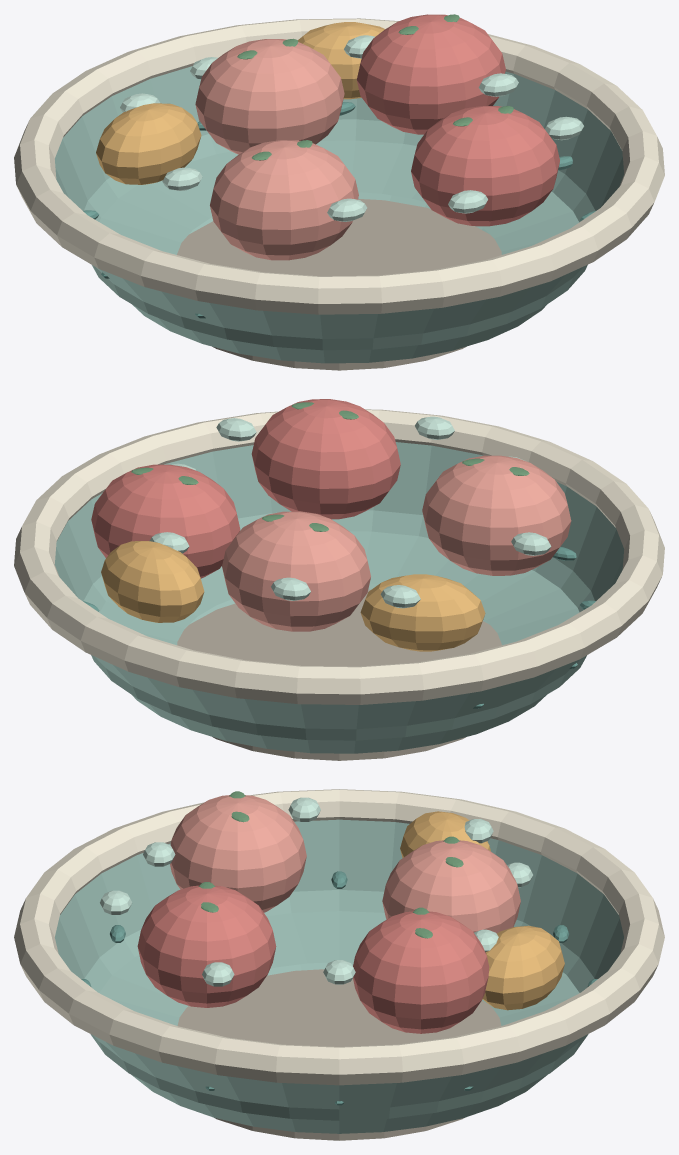
File: washed_fruit.glb
3 renders of one model, top to bottom at view 1: azimuth 30°, elevation 25°; view 2: azimuth 150°, elevation 25°; view 3: azimuth 270°, elevation 25°, orthographic.
Parts seen in each view (by area): view 1: fruit_celadon_colander_hollow_profile, fruit_celadon_colander_rolled_lip, fruit_celadon_colander_foot_ring, rinsed_berry_0, rinsed_berry_1, rinsed_berry_2, rinsed_berry_3, small_citrus_wedge_1, small_citrus_wedge_0, fruit_water_bead_0, fruit_water_bead_7, fruit_water_bead_2 (+2 smaller); view 2: fruit_celadon_colander_hollow_profile, fruit_celadon_colander_rolled_lip, rinsed_berry_1, rinsed_berry_2, rinsed_berry_0, fruit_celadon_colander_foot_ring, rinsed_berry_3, small_citrus_wedge_1, small_citrus_wedge_0, fruit_water_bead_4, fruit_water_bead_2, fruit_water_bead_5 (+2 smaller); view 3: fruit_celadon_colander_hollow_profile, fruit_celadon_colander_rolled_lip, fruit_celadon_colander_foot_ring, rinsed_berry_3, rinsed_berry_1, rinsed_berry_0, rinsed_berry_2, small_citrus_wedge_0, small_citrus_wedge_1, fruit_water_bead_4, fruit_water_bead_5, fruit_water_bead_7 (+3 smaller).
Part boxes in pixels (box(x1,y1,x2,y2)): fruit_celadon_colander_hollow_profile: box(55, 66, 624, 363); fruit_celadon_colander_rolled_lip: box(14, 18, 664, 314); fruit_celadon_colander_foot_ring: box(177, 199, 501, 370); rinsed_berry_0: box(210, 140, 358, 260); rinsed_berry_1: box(411, 106, 559, 226); rinsed_berry_2: box(195, 39, 344, 154); rinsed_berry_3: box(357, 14, 505, 134); small_citrus_wedge_1: box(96, 103, 201, 184); small_citrus_wedge_0: box(298, 22, 384, 99); fruit_water_bead_0: box(478, 73, 518, 96); fruit_water_bead_7: box(327, 198, 367, 221); fruit_water_bead_2: box(448, 190, 487, 213); fruit_celadon_colander_hollow_profile: box(54, 442, 624, 753); fruit_celadon_colander_rolled_lip: box(14, 409, 664, 704); rinsed_berry_1: box(251, 399, 400, 519); rinsed_berry_2: box(222, 511, 370, 631); rinsed_berry_0: box(422, 455, 571, 575); fruit_celadon_colander_foot_ring: box(177, 589, 501, 760); rinsed_berry_3: box(91, 464, 240, 578); small_citrus_wedge_1: box(360, 574, 485, 651); small_citrus_wedge_0: box(101, 541, 204, 622); fruit_water_bead_4: box(511, 532, 551, 555); fruit_water_bead_2: box(415, 416, 454, 439); fruit_water_bead_5: box(216, 418, 256, 441); fruit_celadon_colander_hollow_profile: box(55, 819, 623, 1133); fruit_celadon_colander_rolled_lip: box(14, 789, 664, 1085); fruit_celadon_colander_foot_ring: box(177, 969, 501, 1140); rinsed_berry_3: box(353, 911, 489, 1033); rinsed_berry_1: box(137, 885, 276, 1007); rinsed_berry_0: box(170, 795, 306, 912); rinsed_berry_2: box(382, 840, 520, 933); small_citrus_wedge_0: box(482, 925, 564, 1010); small_citrus_wedge_1: box(400, 811, 490, 857); fruit_water_bead_4: box(288, 797, 320, 821); fruit_water_bead_5: box(202, 962, 234, 986); fruit_water_bead_7: box(143, 842, 175, 866).
Size of the model in its own units: 0.6385 by 0.23 by 0.6385.
